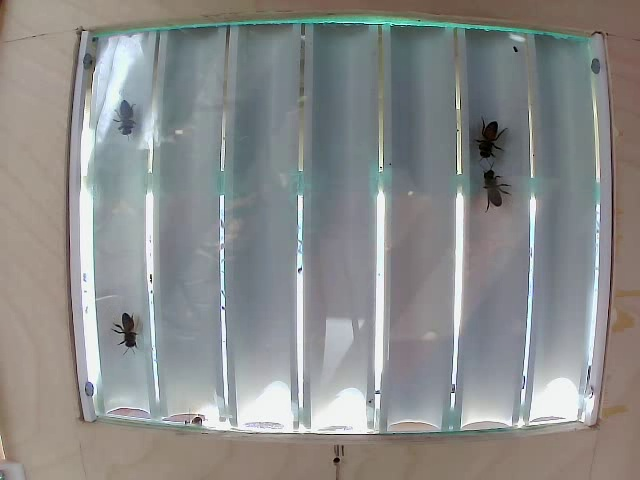bee: (111, 100, 147, 149), (113, 313, 141, 359), (474, 116, 498, 160), (483, 166, 507, 207)
